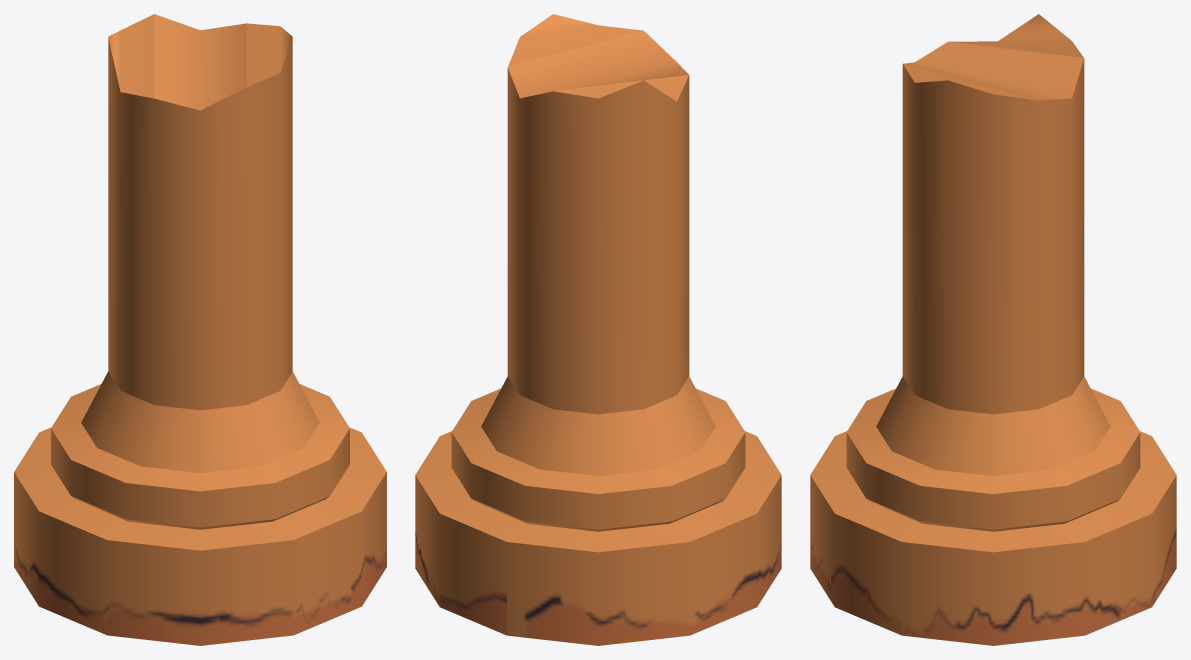
Rendered from BrokenPillar_Bottom1.fbx.
The picture shows the model from 3 angles, left to right: view 1: azimuth 30°, elevation 25°; view 2: azimuth 150°, elevation 25°; view 3: azimuth 270°, elevation 25°; orthographic projection.
Visible parts, largest first — view 1: Broken_Bottom_1; view 2: Broken_Bottom_1; view 3: Broken_Bottom_1.
Boxes of the visible parts, x1,y1,x2,y2 form: Broken_Bottom_1: [14, 14, 386, 645]; Broken_Bottom_1: [415, 14, 781, 645]; Broken_Bottom_1: [810, 14, 1176, 645].
Size of the model in its own units: 404 by 404 by 634.
